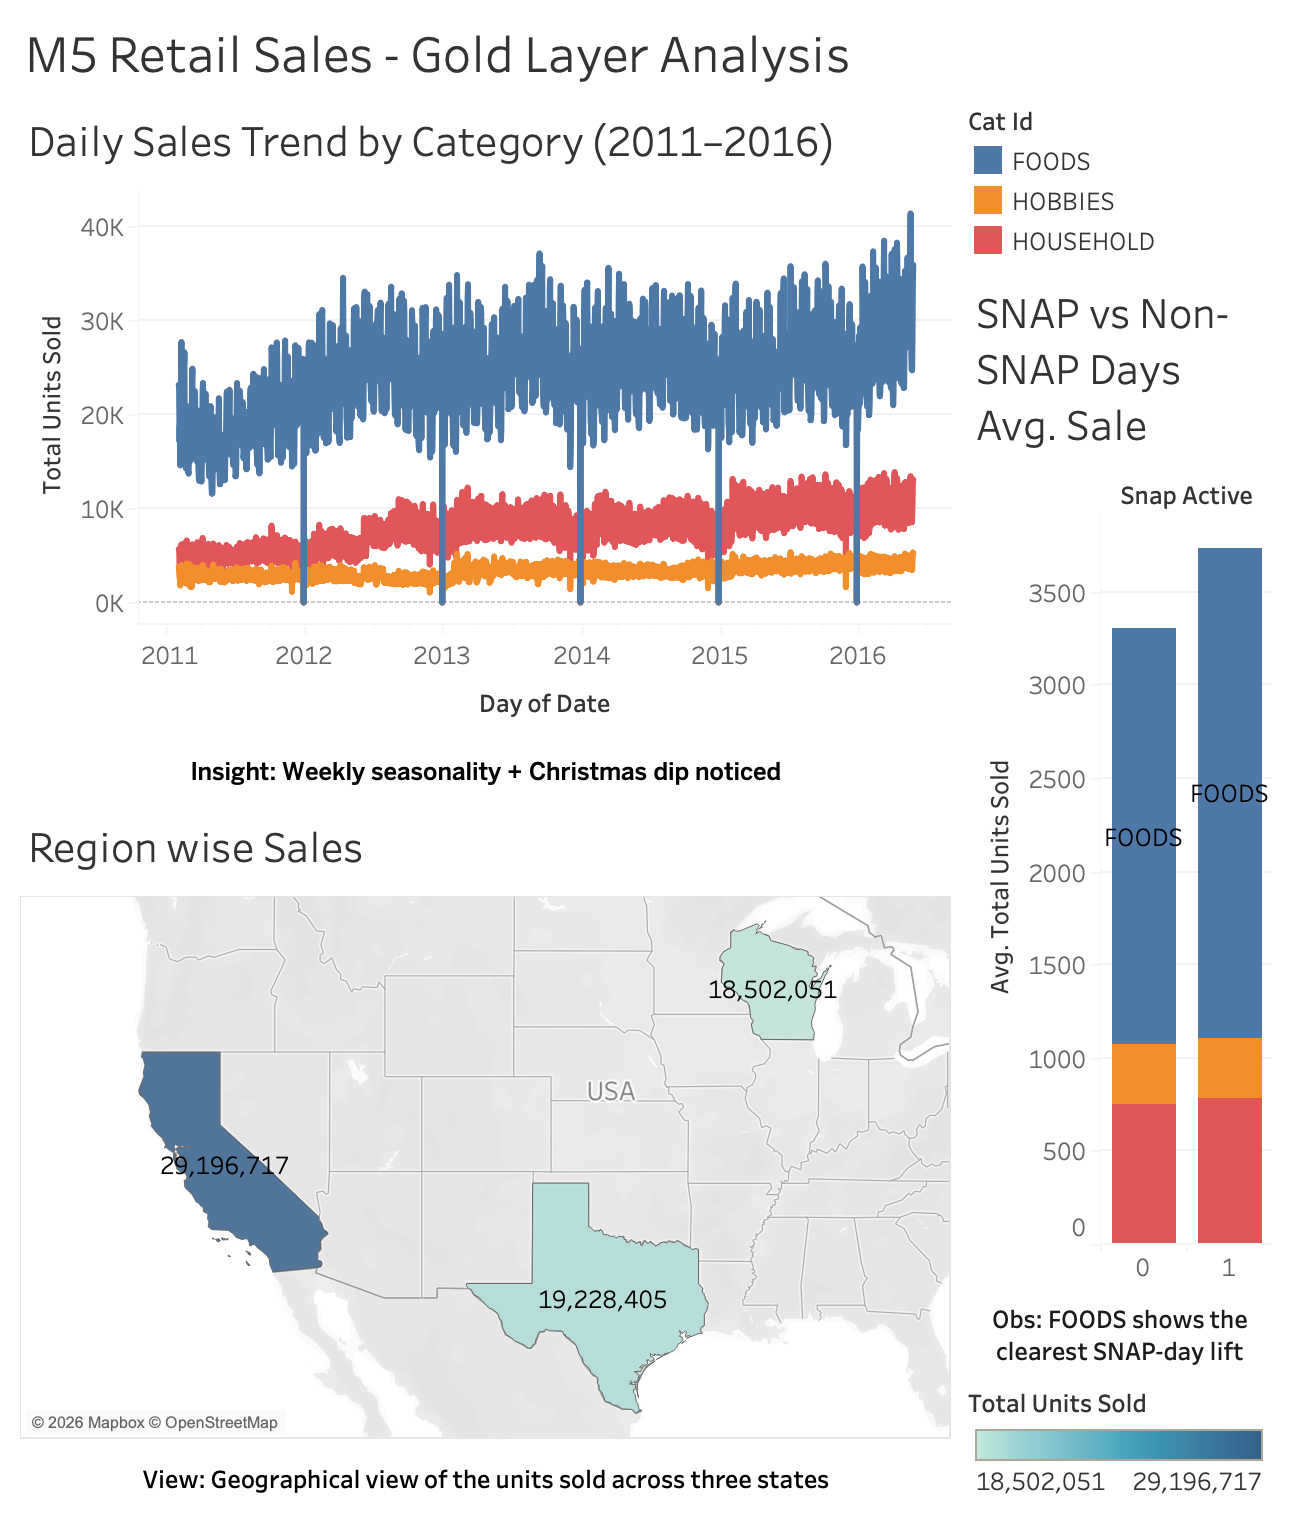

The page's visual inventory and layout, read from the dashboard file:
{"tool":"tableau","page":{"name":"M5 Retail Sales - Gold Layer Analysis","canvas":[650,860],"ordinal":0},"visuals":[{"type":"title","box":[8,9,634,47.3]},{"type":"worksheet","title":"Daily Sales Trend by Category (2011–2016)","mark":"Automatic","rows":["total_units_sold"],"cols":["date"],"box":[8,56.3,474,363.4]},{"type":"legend","title":"Daily Sales Trend by Category (2011–2016)","param":"[federated.0l6lr6912wytre1gvgcrk0klbhhp].[none:cat_id:nk]","box":[482,56.3,160,96.8]},{"type":"worksheet","title":"SNAP vs Non-SNAP Days Avg. Sale","mark":"Automatic","rows":["total_units_sold"],"cols":["snap_active"],"box":[482,153.1,160,577.5]},{"type":"text","box":[8,419.6,474,34]},{"type":"worksheet","title":"Region wise Sales","mark":"Automatic","box":[8,453.6,474,363.3]},{"type":"text","box":[482,730.6,160,47.3]},{"type":"legend","title":"Region wise Sales","param":"[federated.0l6lr6912wytre1gvgcrk0klbhhp].[sum:total_units_sold:qk]","box":[482,777.8,160,73.2]},{"type":"text","box":[8,817,474,34]}]}

Visuals, with their boxes in screenshot pixels (x1, y1, x2, y2):
title: (x1=0, y1=63, x2=1103, y2=146)
"Daily Sales Trend by Category (2011–2016)" worksheet: (x1=0, y1=146, x2=824, y2=779)
"Daily Sales Trend by Category (2011–2016)" legend: (x1=824, y1=146, x2=1103, y2=314)
"SNAP vs Non-SNAP Days Avg. Sale" worksheet: (x1=824, y1=314, x2=1103, y2=1321)
text: (x1=0, y1=779, x2=824, y2=838)
"Region wise Sales" worksheet: (x1=0, y1=838, x2=824, y2=1471)
text: (x1=824, y1=1321, x2=1103, y2=1403)
"Region wise Sales" legend: (x1=824, y1=1403, x2=1103, y2=1519)
text: (x1=0, y1=1472, x2=824, y2=1519)
